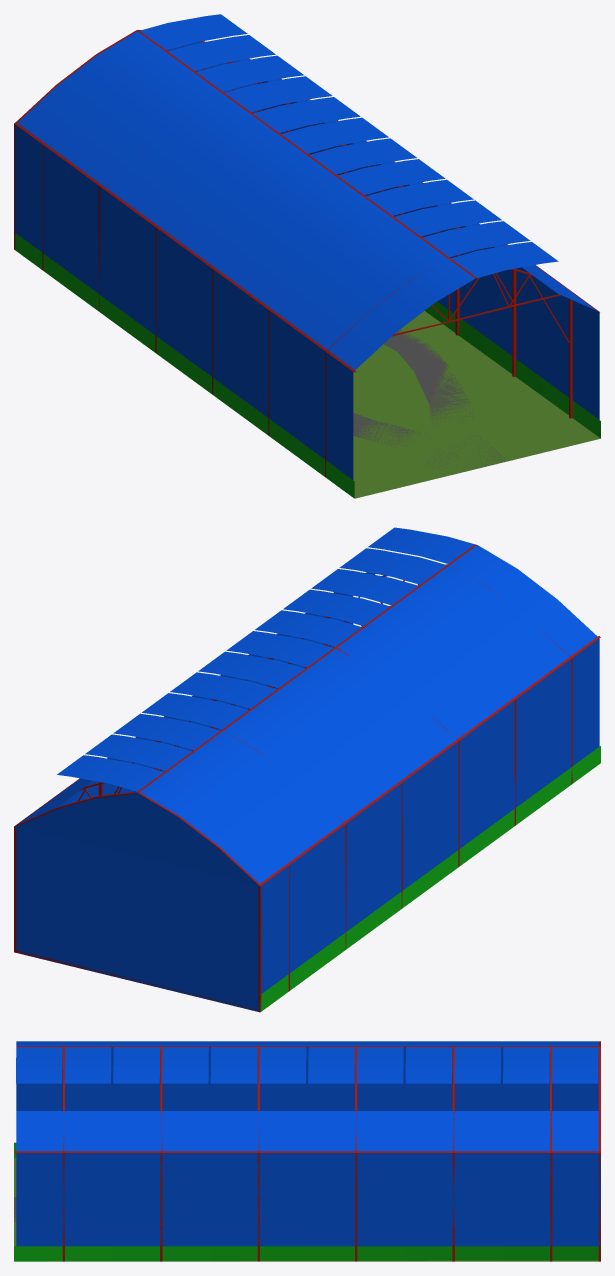
Rendered from Serra_suddivisa.fbx.
3 renders of one model, top to bottom at view 1: azimuth 30°, elevation 25°; view 2: azimuth 150°, elevation 25°; view 3: azimuth 270°, elevation 25°, orthographic. The views are drawn at different scales.
Parts seen in each view (by area): view 1: Plane.001, Cube.020, Cube.022, Cube.021, Cube.023, Cube.024, Cube.025, Cube.019, Cube.026, Cube.028, Cube.030, Cube.029 (+2 smaller); view 2: Cube.019, Cube.030, Cube.028, Cube.029, Cube.026, Cube.022, Cube.024, Cube.020, Cube.021, Cube.023, Cube.027, Cube.025; view 3: Cube.030, Cube.026, Cube.022, Cube.028, Cube.021, Cube.024, Cube.023, Cube.020, Cube.029, Cube.027, Cube.019, Cube.025 (+2 smaller).
Boxes of the visible parts, <box> form: Plane.001: <box>353,311,600,498</box>; Cube.020: <box>325,242,600,498</box>; Cube.022: <box>268,200,543,456</box>; Cube.021: <box>297,221,571,477</box>; Cube.023: <box>241,179,512,435</box>; Cube.024: <box>212,159,486,415</box>; Cube.025: <box>184,138,455,393</box>; Cube.019: <box>14,14,286,269</box>; Cube.026: <box>155,117,430,373</box>; Cube.028: <box>98,76,373,332</box>; Cube.030: <box>42,35,317,290</box>; Cube.029: <box>70,55,342,311</box>; Cube.019: <box>14,755,289,1012</box>; Cube.030: <box>43,734,317,991</box>; Cube.028: <box>98,693,374,949</box>; Cube.029: <box>71,713,345,970</box>; Cube.026: <box>155,651,430,908</box>; Cube.022: <box>268,569,544,825</box>; Cube.024: <box>212,610,487,867</box>; Cube.020: <box>325,527,600,784</box>; Cube.021: <box>297,548,572,804</box>; Cube.023: <box>240,589,515,845</box>; Cube.027: <box>127,672,401,928</box>; Cube.025: <box>184,631,458,887</box>; Cube.030: <box>501,1041,552,1261</box>; Cube.026: <box>307,1041,357,1261</box>; Cube.022: <box>112,1041,162,1261</box>; Cube.028: <box>404,1041,454,1261</box>; Cube.021: <box>63,1041,113,1261</box>; Cube.024: <box>209,1041,259,1261</box>; Cube.023: <box>160,1041,210,1261</box>; Cube.020: <box>14,1041,64,1261</box>; Cube.029: <box>453,1041,503,1260</box>; Cube.027: <box>356,1041,405,1260</box>; Cube.019: <box>550,1041,600,1261</box>; Cube.025: <box>258,1041,307,1260</box>.
Bounding box in the file's own units: 1010 × 2419 × 746.
